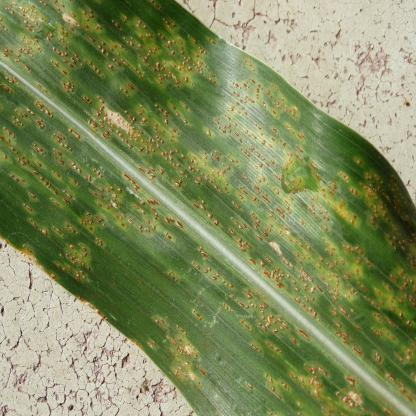Corn rust leaf: (0, 1, 416, 413)
